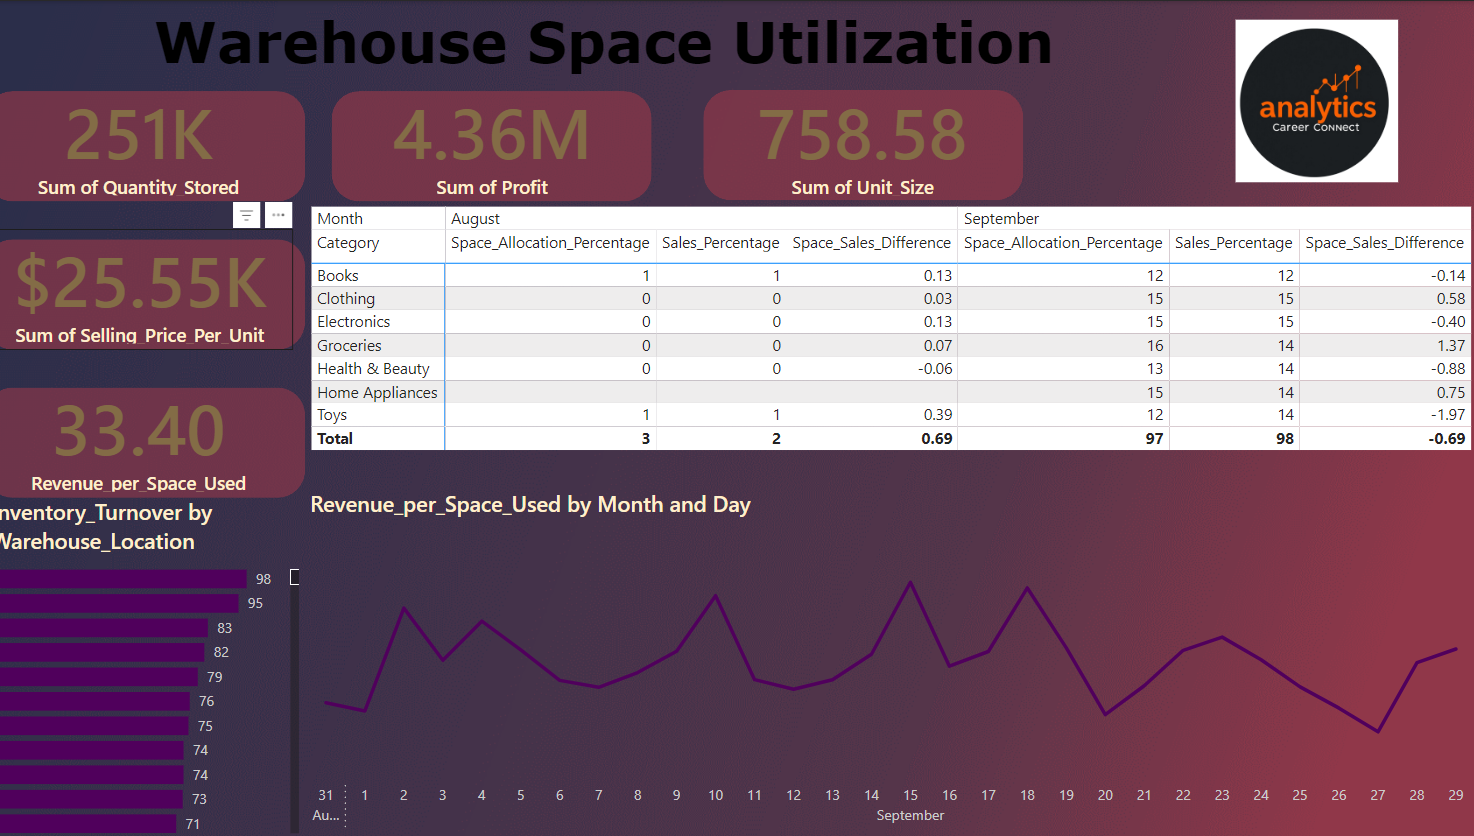

What the dashboard file says about the page in this screenshot:
{"tool":"powerbi","page":{"name":"Page 1","canvas":[1280,720],"ordinal":0},"visuals":[{"type":"lineChart","fields":{"Category":["Sheet1.Date_Recorded.Variation.Date Hierarchy.Month","Sheet1.Date_Recorded.Variation.Date Hierarchy.Day"],"Y":["Sheet1.Revenue_per_Space_Used"]},"box":[273.6,418.4,1006.1,301.3],"z":0},{"type":"clusteredBarChart","fields":{"Category":["Sheet1.Warehouse_Location"],"Y":["Sheet1.Inventory_Turnover"]},"box":[0,425.8,274.7,293.8],"z":1000},{"type":"pivotTable","fields":{"Rows":["Sheet1.Category"],"Values":["Sheet1.Space_Allocation_Percentage","Sheet1.Sales_Percentage","Sheet1.Space_Sales_Difference"],"Columns":["Sheet1.Date_Recorded.Variation.Date Hierarchy.Month"]},"box":[274.8,171.1,1005.2,227.8],"z":2000},{"type":"textbox","box":[0,0,1078.5,95.8],"z":3000},{"type":"image","box":[1003.9,10.6,275.7,150.1],"z":4000},{"type":"shape","box":[297,77.7,274.7,94.8],"z":5000},{"type":"shape","box":[0,77.7,274.7,94.8],"z":5002},{"type":"shape","box":[0,204.4,274.7,94.8],"z":5003},{"type":"shape","box":[0,331.1,274.7,94.8],"z":5004},{"type":"shape","box":[616.4,76.7,274.7,94.8],"z":5005},{"type":"card","fields":{"Values":["Sum(Sheet1.Unit_Size)"]},"box":[602.6,68.1,300.2,103.3],"z":5006},{"type":"card","fields":{"Values":["Sum(Sheet1.Profit)"]},"box":[284.3,68.1,300.2,103.3],"z":5007},{"type":"card","fields":{"Values":["Sum(Sheet1.Quantity_Stored)"]},"box":[0,68.1,263,103.3],"z":5008},{"type":"card","fields":{"Values":["Sum(Sheet1.Selling_Price_Per_Unit)"]},"box":[1.1,195.9,263,103.3],"z":5009},{"type":"card","fields":{"Values":["Sheet1.Revenue_per_Space_Used"]},"box":[0,322.6,263,103.3],"z":5010}]}

Visuals, with their boxes in screenshot pixels (x1, y1, x2, y2), scaled from the page's 1280x720 canvas onto the 1474x836 screenshot:
lineChart - Sheet1.Date_Recorded.Variation.Date Hierarchy.Month x Sheet1.Date_Recorded.Variation.Date Hierarchy.Day: [x1=315, y1=486, x2=1473, y2=835]
clusteredBarChart - Sheet1.Warehouse_Location x Sheet1.Inventory_Turnover: [x1=0, y1=494, x2=316, y2=835]
pivotTable - Sheet1.Category x Sheet1.Space_Allocation_Percentage: [x1=316, y1=199, x2=1473, y2=463]
textbox: [x1=0, y1=0, x2=1242, y2=111]
image: [x1=1156, y1=12, x2=1473, y2=187]
shape: [x1=342, y1=90, x2=658, y2=200]
shape: [x1=0, y1=90, x2=316, y2=200]
shape: [x1=0, y1=237, x2=316, y2=347]
shape: [x1=0, y1=384, x2=316, y2=495]
shape: [x1=710, y1=89, x2=1026, y2=199]
card - Sum(Sheet1.Unit_Size): [x1=694, y1=79, x2=1040, y2=199]
card - Sum(Sheet1.Profit): [x1=327, y1=79, x2=673, y2=199]
card - Sum(Sheet1.Quantity_Stored): [x1=0, y1=79, x2=303, y2=199]
card - Sum(Sheet1.Selling_Price_Per_Unit): [x1=1, y1=227, x2=304, y2=347]
card - Sheet1.Revenue_per_Space_Used: [x1=0, y1=375, x2=303, y2=495]
